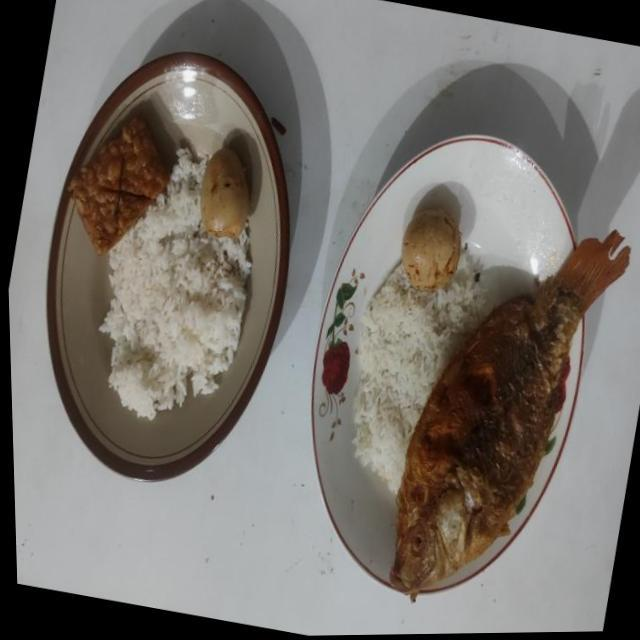ikan_mujair: (390, 231, 630, 601)
nasi_putih: (100, 148, 252, 420), (352, 256, 484, 494)
tempe_goreng: (68, 115, 170, 254)
